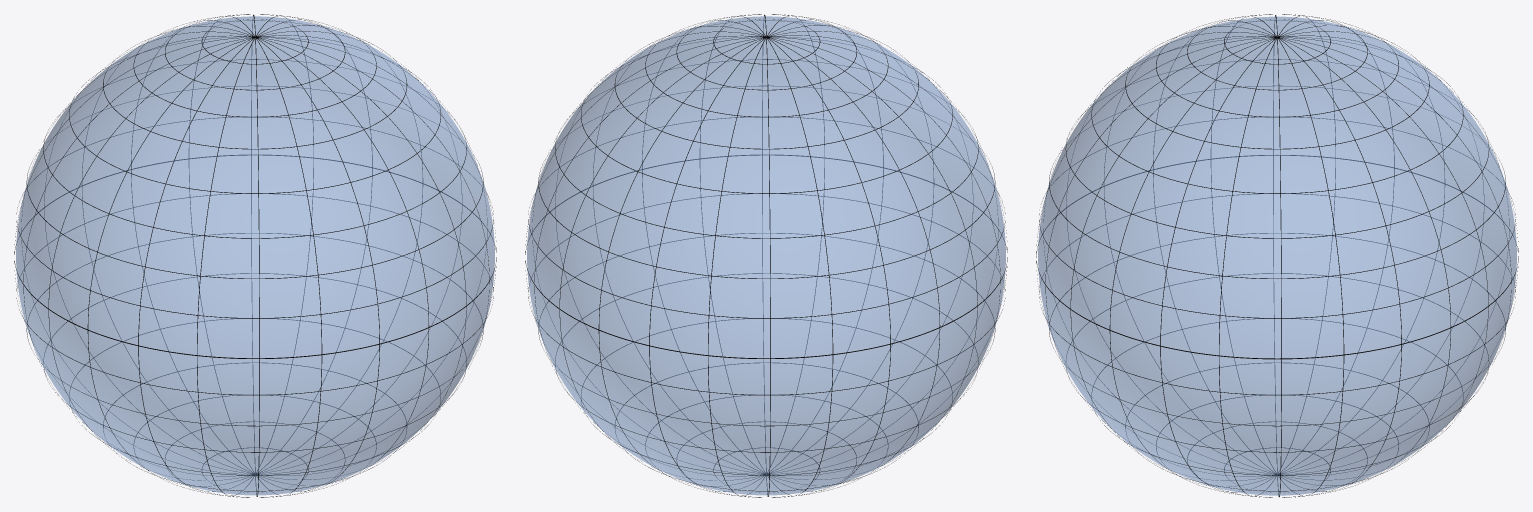
The model's file is qiu NEW(2).FBX.
3 views of the same model, side by side, from view 1: azimuth 30°, elevation 25°; view 2: azimuth 150°, elevation 25°; view 3: azimuth 270°, elevation 25° (orthographic).
Parts seen in each view (by area): view 1: Globe Sea, Longitudes Outside, Meridians Outside; view 2: Globe Sea, Longitudes Outside, Meridians Outside; view 3: Globe Sea, Longitudes Outside, Meridians Outside.
Part boxes in pixels (bbox=[...]): Globe Sea: bbox=[16, 16, 494, 495]; Longitudes Outside: bbox=[14, 14, 496, 497]; Meridians Outside: bbox=[14, 14, 496, 496]; Globe Sea: bbox=[527, 16, 1005, 495]; Longitudes Outside: bbox=[525, 14, 1007, 497]; Meridians Outside: bbox=[525, 14, 1007, 496]; Globe Sea: bbox=[1038, 16, 1516, 495]; Longitudes Outside: bbox=[1036, 14, 1518, 497]; Meridians Outside: bbox=[1036, 15, 1518, 497].
Bounding box in the file's own units: 576 × 576 × 576.
